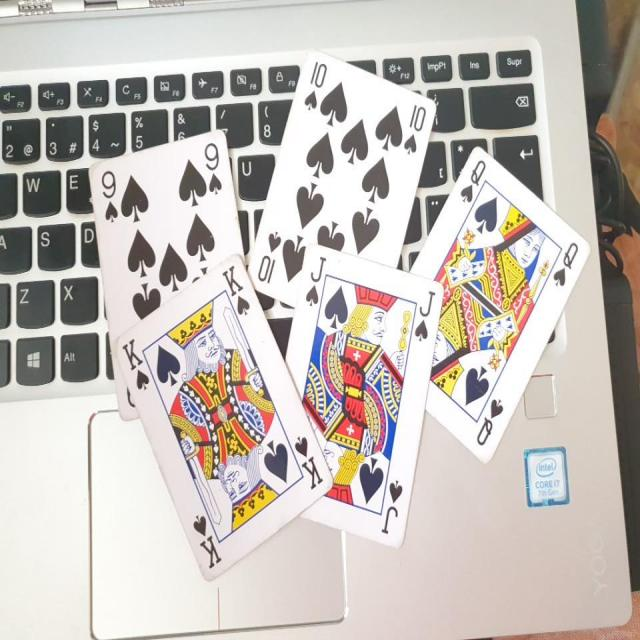10 Spades: (245, 36, 440, 332)
9 Spades: (81, 124, 248, 433)
J Spades: (275, 244, 447, 556)
K Spades: (113, 256, 338, 580)
Q Spades: (396, 145, 590, 470)
